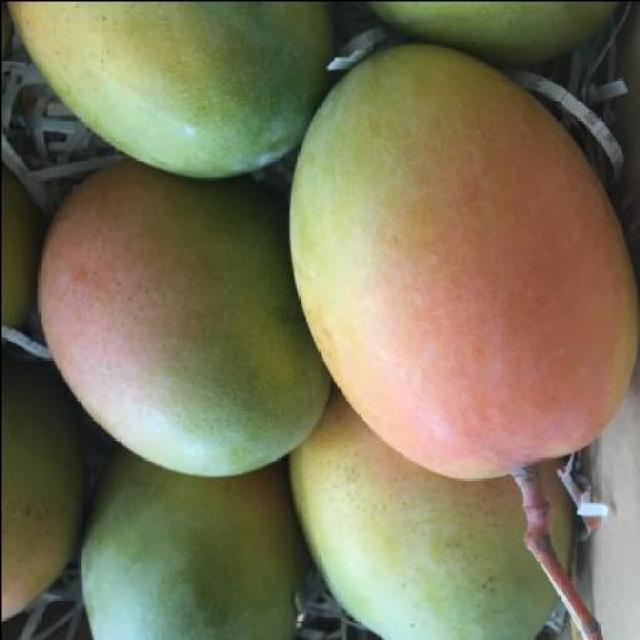Mango: (290, 41, 640, 482), (38, 158, 332, 478), (288, 374, 579, 640), (6, 0, 339, 182), (79, 433, 303, 640)
